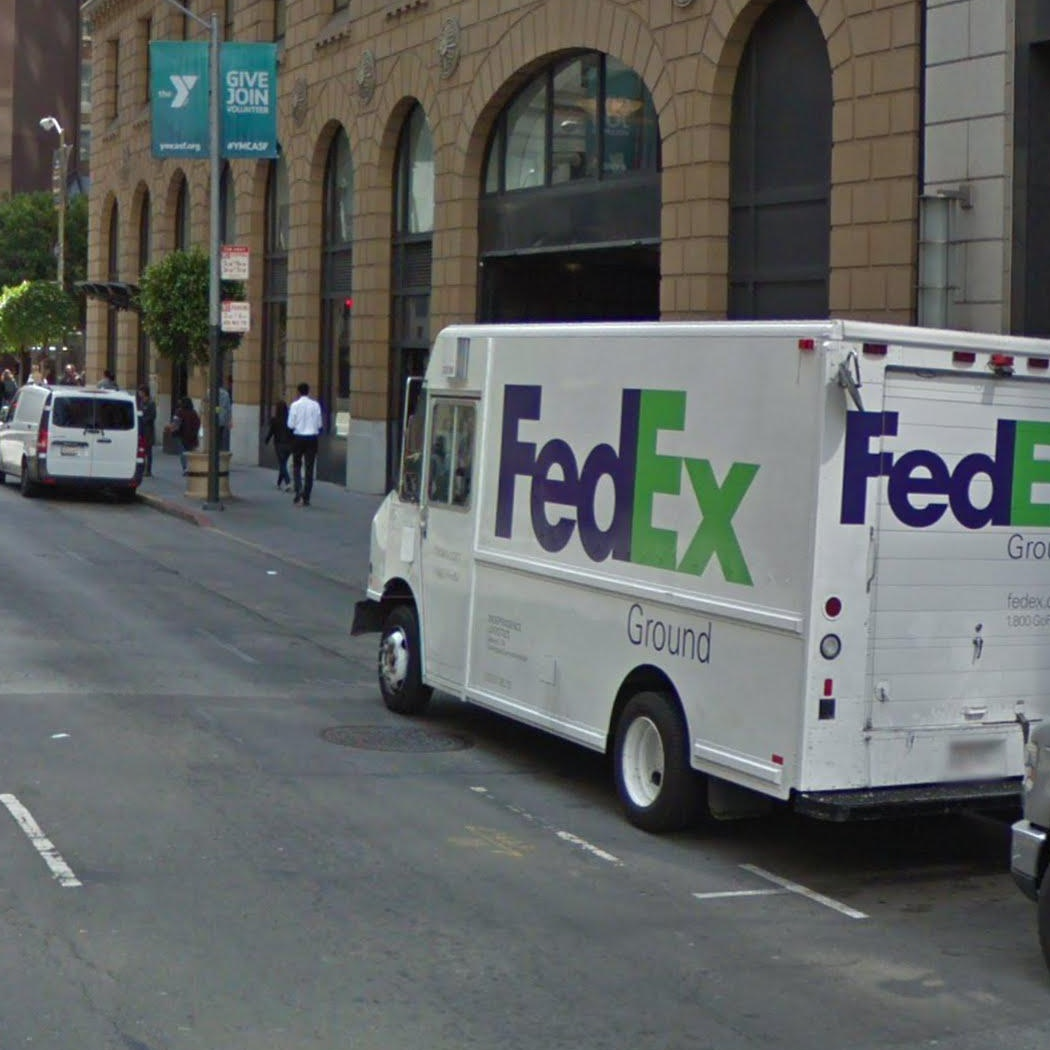No Parking: (220, 299, 252, 333)
